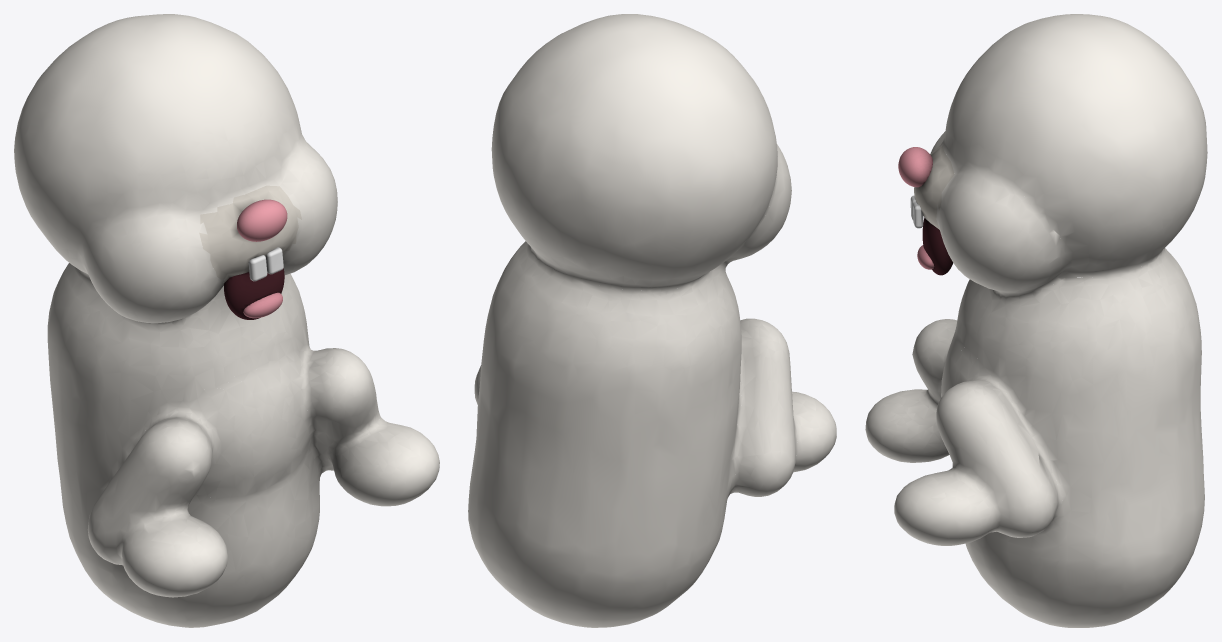
Rendered from vad-sa-du.glb.
3 renders of one model, left to right at view 1: azimuth 30°, elevation 25°; view 2: azimuth 150°, elevation 25°; view 3: azimuth 270°, elevation 25°, orthographic. The views are drawn at different scales.
Parts seen in each view (by area): view 1: coelho__r0, coelho__r2, coelho__r1, coelho__r3; view 2: coelho__r0; view 3: coelho__r0, coelho__r1, coelho__r2.
Boxes of the visible parts, box(x1,y1,x2,y2) form: coelho__r0: box(14, 14, 439, 627); coelho__r2: box(224, 268, 284, 319); coelho__r1: box(237, 199, 287, 241); coelho__r3: box(243, 292, 282, 318); coelho__r0: box(468, 14, 836, 627); coelho__r0: box(865, 14, 1207, 627); coelho__r1: box(898, 147, 932, 187); coelho__r2: box(922, 217, 952, 275).
Size of the model in its own units: 0.4839 by 0.841 by 0.4544.
